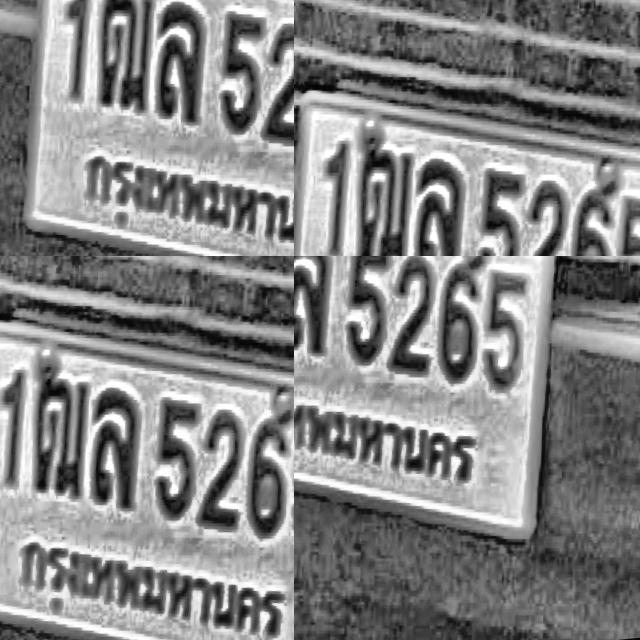license-plate: (294, 256, 580, 587), (0, 256, 193, 604), (294, 0, 486, 210)
